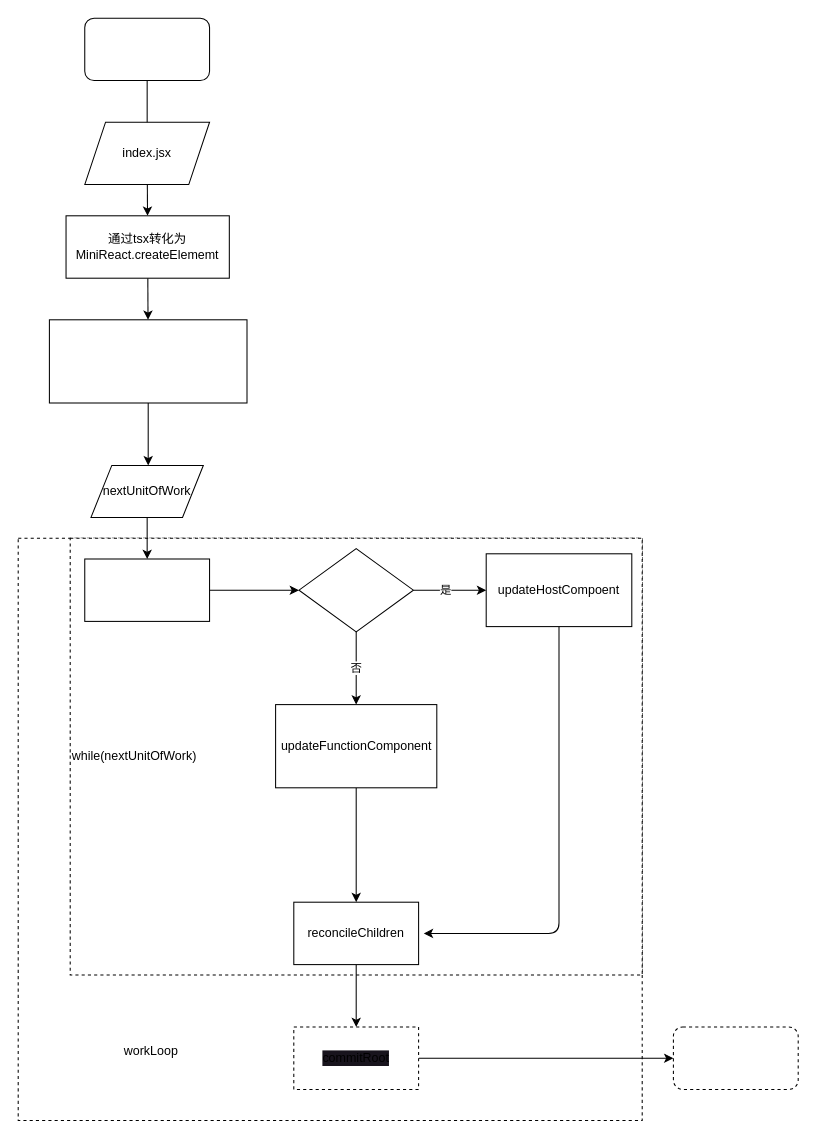
Image size: 816x1139. Some labels were removed from this diagram. The shapes that lost their labels are listed below. From the top down, each one's centre as x and y in pixels, then its label:
(x=147, y=49): 开始
(x=147, y=361): render(<App/>, document.getElementId("root"))：初始化wipFiber，当前fiber链表的根节点
(x=147, y=589): performUnitOfWork
(x=355, y=590): 是否原生组件
(x=735, y=1057): 结束
